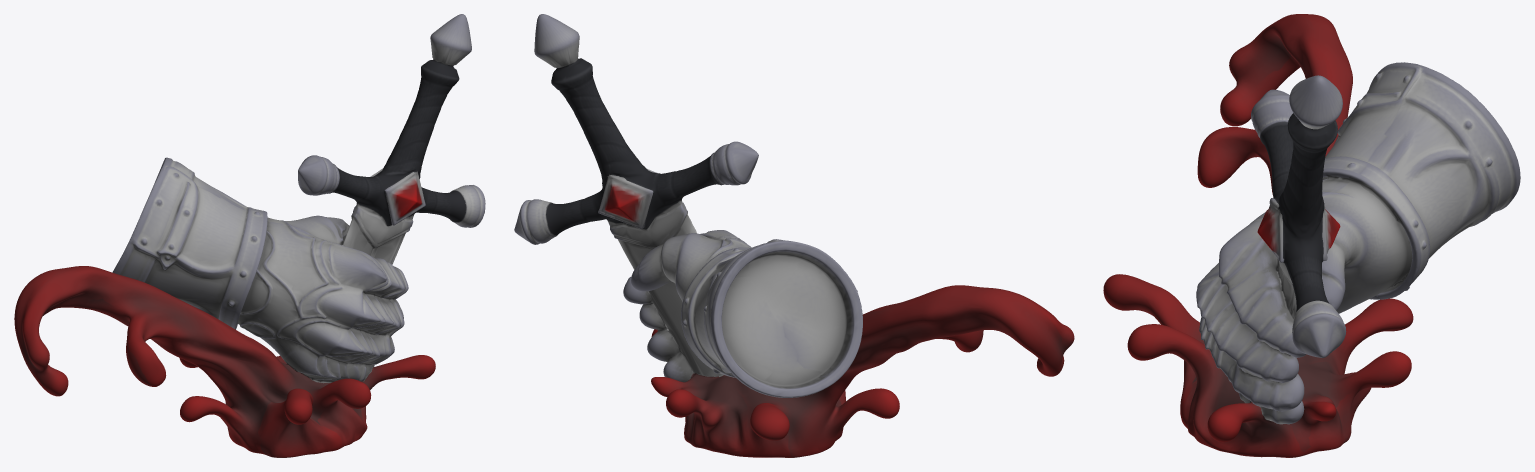
Rendered from Prop - Gauntlet.glb.
The picture shows the model from 3 angles, left to right: view 1: azimuth 30°, elevation 25°; view 2: azimuth 150°, elevation 25°; view 3: azimuth 270°, elevation 25°; orthographic projection. The views are drawn at different scales.
Visible parts, largest first — view 1: gauntlet; view 2: gauntlet; view 3: gauntlet.
Part boxes in pixels (bbox=[...]): gauntlet: bbox=[14, 14, 485, 457]; gauntlet: bbox=[514, 14, 1074, 457]; gauntlet: bbox=[1103, 14, 1520, 457].
Bounding box in the file's own units: 1.04 × 0.7267 × 0.5981.
1 material, 1 textured.
